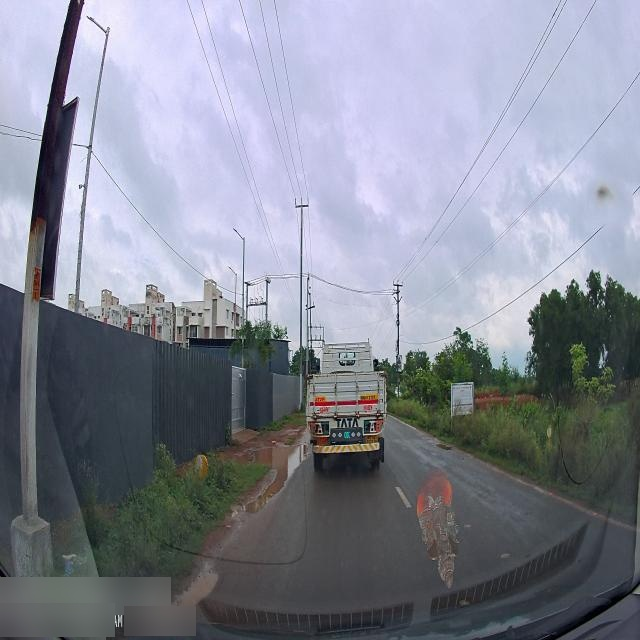pothole: (248, 470, 292, 513), (251, 438, 307, 470), (438, 437, 451, 452)
